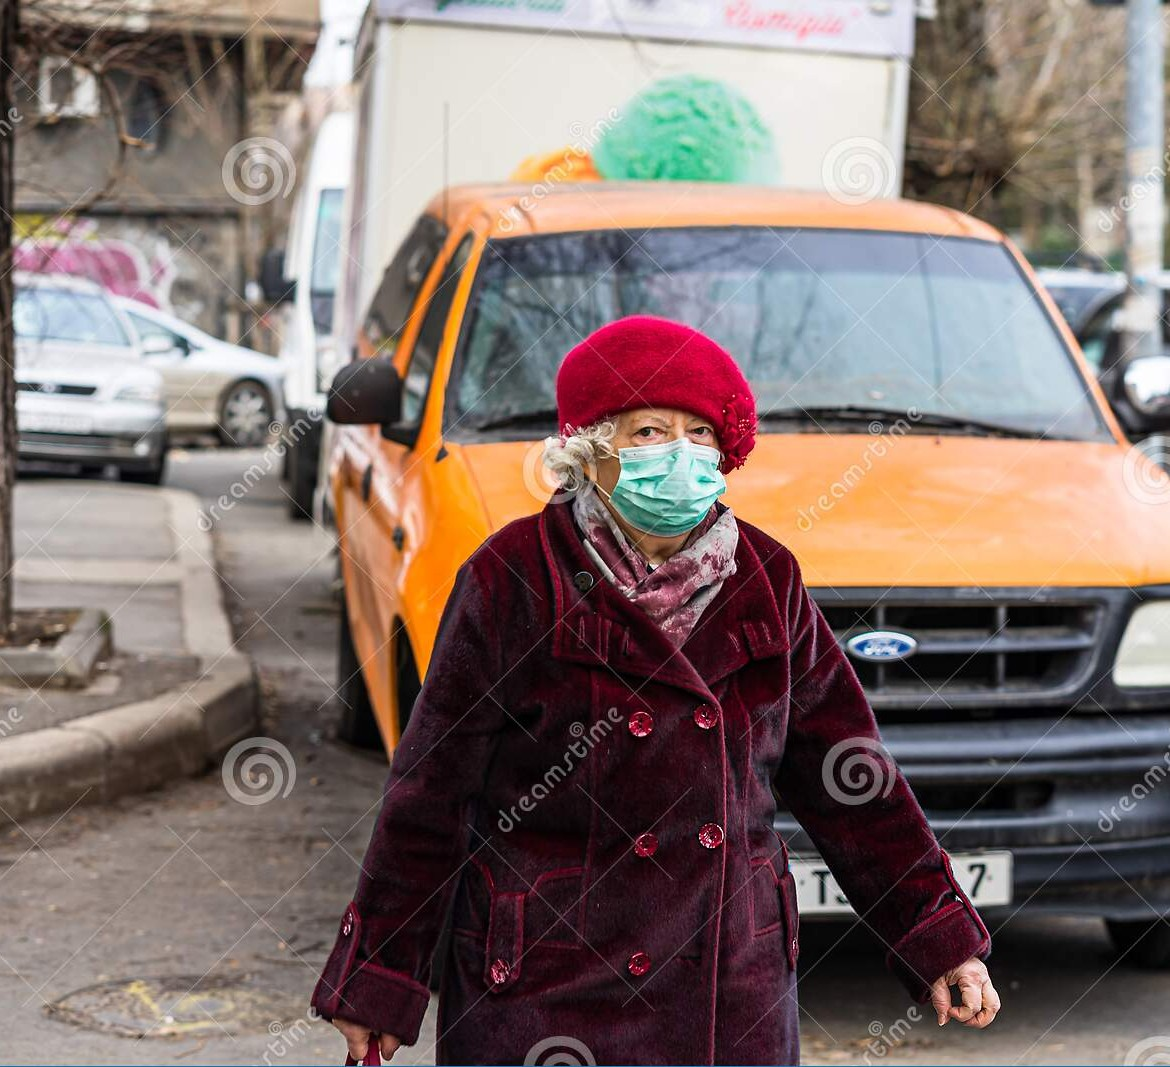with_mask: (560, 359, 743, 543)
